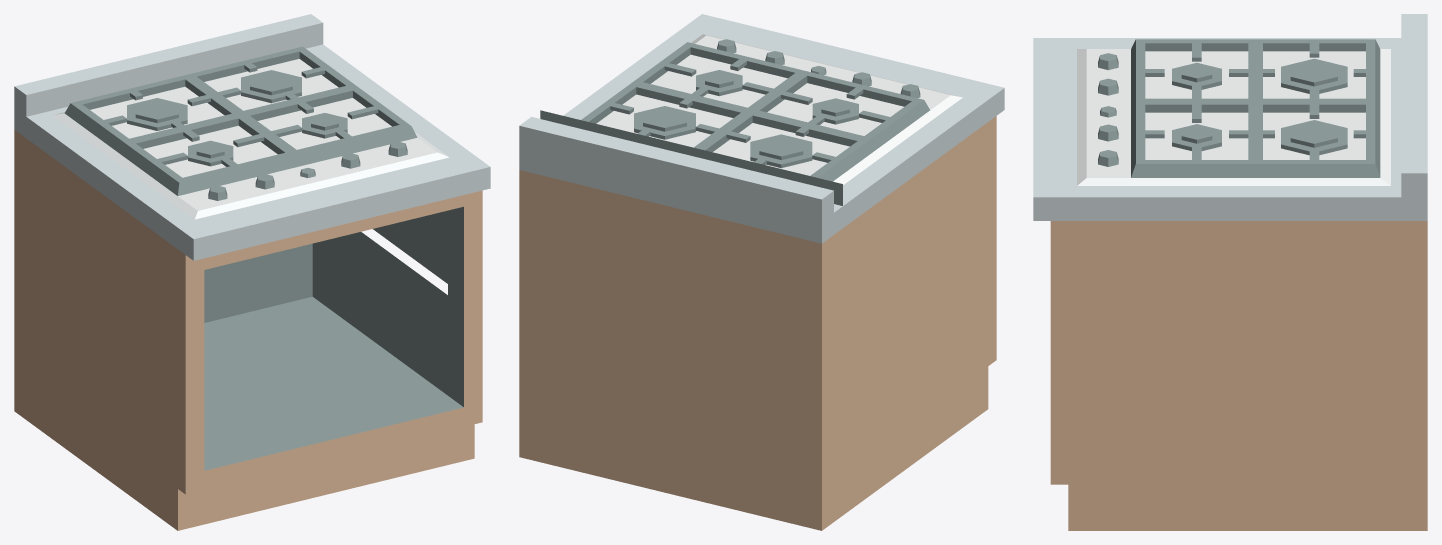
File: Kitchen_Stove.glb
3 renders of one model, left to right at view 1: azimuth 30°, elevation 25°; view 2: azimuth 150°, elevation 25°; view 3: azimuth 270°, elevation 25°, orthographic. The views are drawn at different scales.
Parts seen in each view (by area): view 1: Kitchen_Stove; view 2: Kitchen_Stove; view 3: Kitchen_Stove.
Boxes of the visible parts, <box> form: Kitchen_Stove: <box>14,14,490,530</box>; Kitchen_Stove: <box>519,14,1004,530</box>; Kitchen_Stove: <box>1033,14,1427,530</box>.
Bounding box in the file's own units: 0.43 × 0.45 × 0.45.
